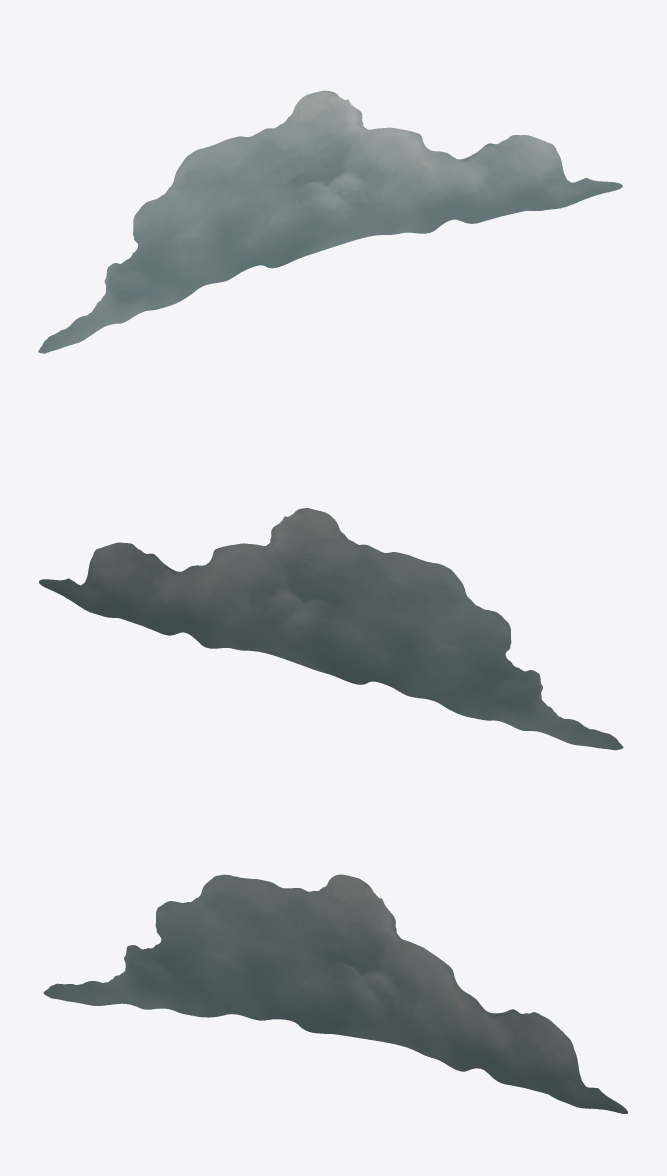
The model's file is clouds_02.fbx.
3 views of the same model, one above another, from view 1: azimuth 30°, elevation 25°; view 2: azimuth 150°, elevation 25°; view 3: azimuth 330°, elevation 25° (orthographic).
Parts seen in each view (by area): view 1: clouds_02; view 2: clouds_02; view 3: clouds_02.
Part boxes in pixels (x1,y1,x2,y2): clouds_02: (38, 90, 622, 353); clouds_02: (39, 508, 623, 750); clouds_02: (43, 874, 627, 1113).
Bounding box in the file's own units: 732 × 227 × 34.84.
